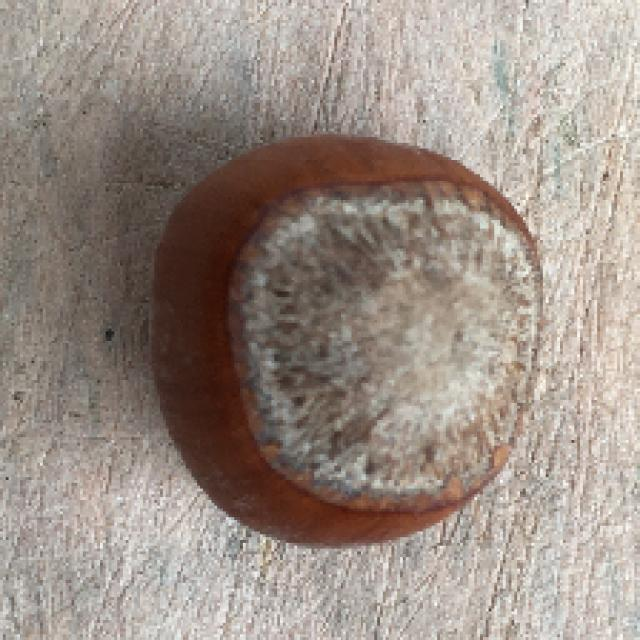qualityHazelnut: (150, 128, 551, 553)
